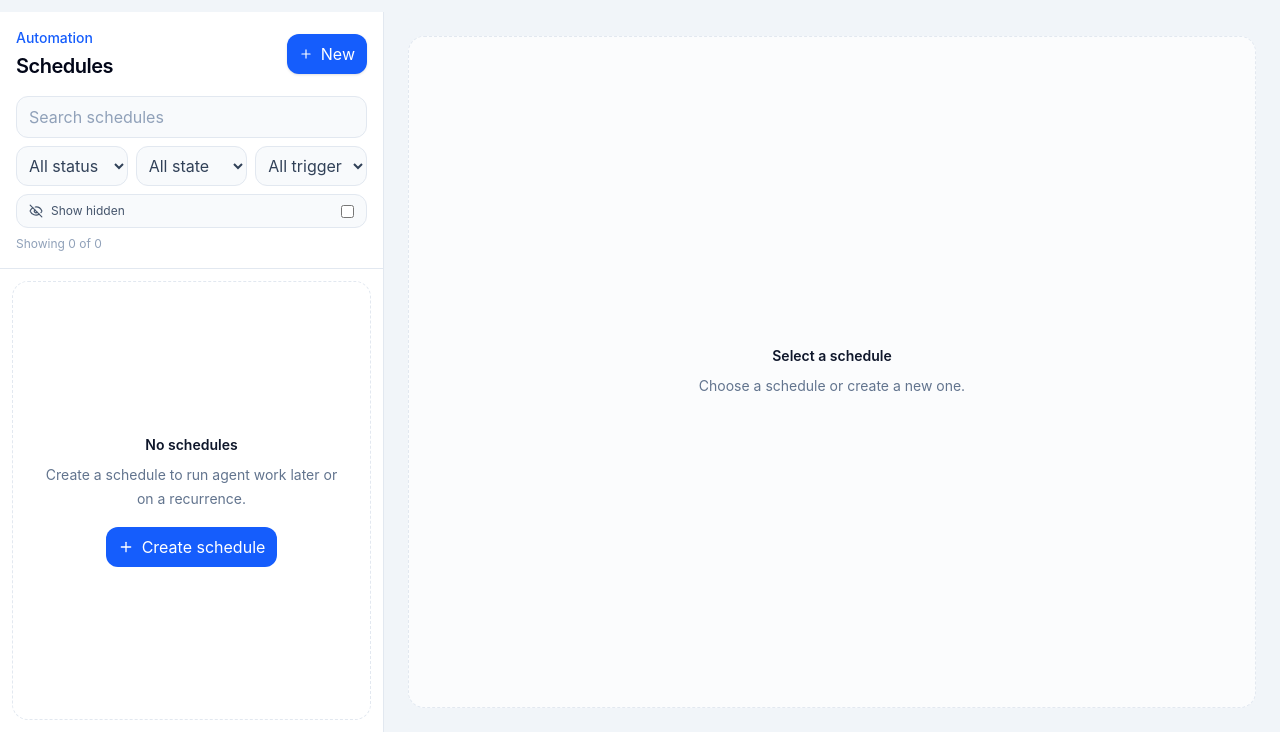
Scenario: SchedulesPage › disables schedule fields while a save is pending
Click the button "New": [327, 54] box 287,34 -> 367,74
(page scrolled)
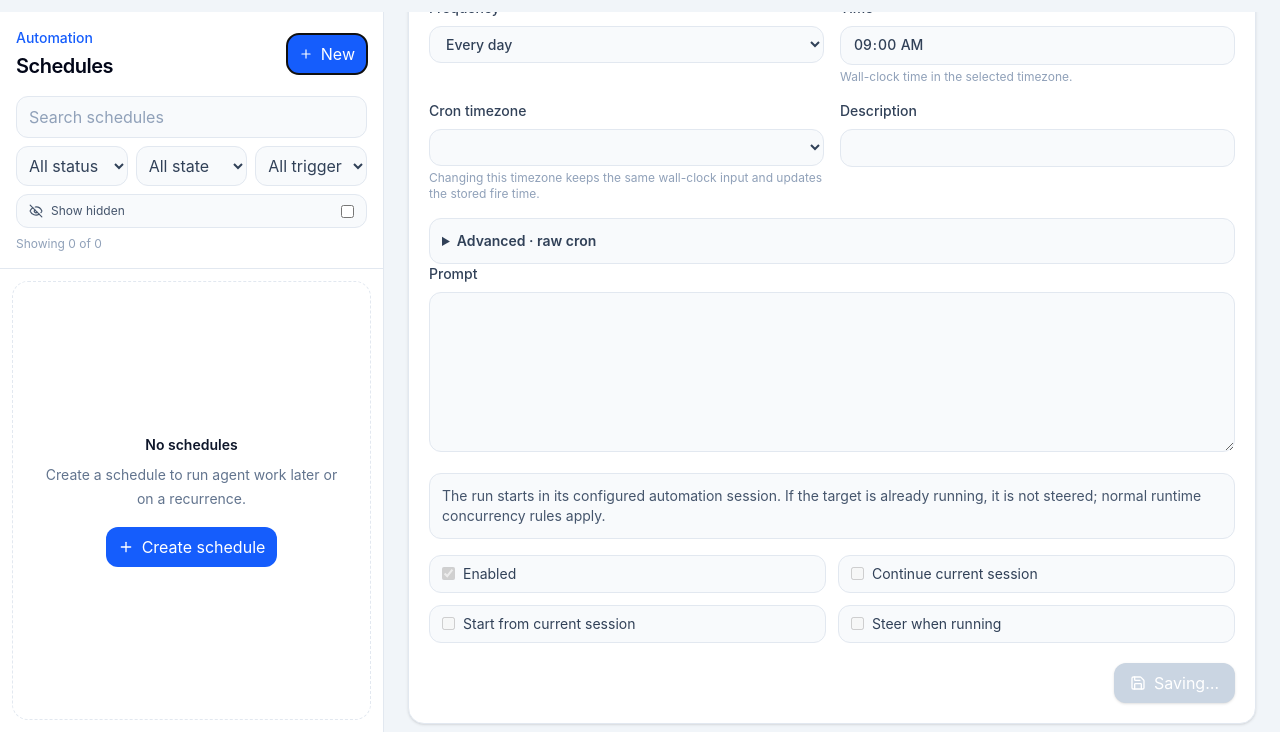
expect the text box labelled "Prompt" is disabled: met, box 429,292 -> 1235,452
